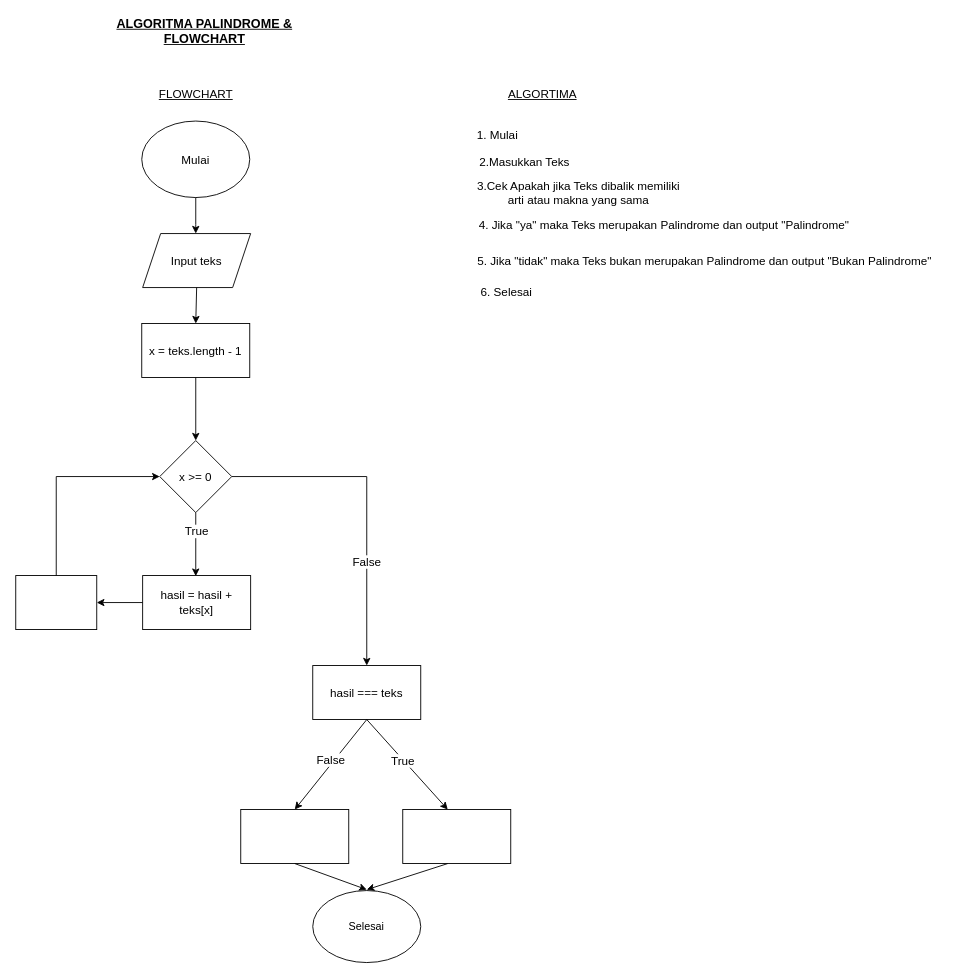
Some shapes in this 959 by 978 pixel diagram are drawn without their labels. Here are the shapes that lost their labels. From the top down, the centre of each, then its label:
point (56, 602): x = x - 1
point (294, 836): Output "Bukan Palindrome"
point (456, 836): Output "Palindrome"
